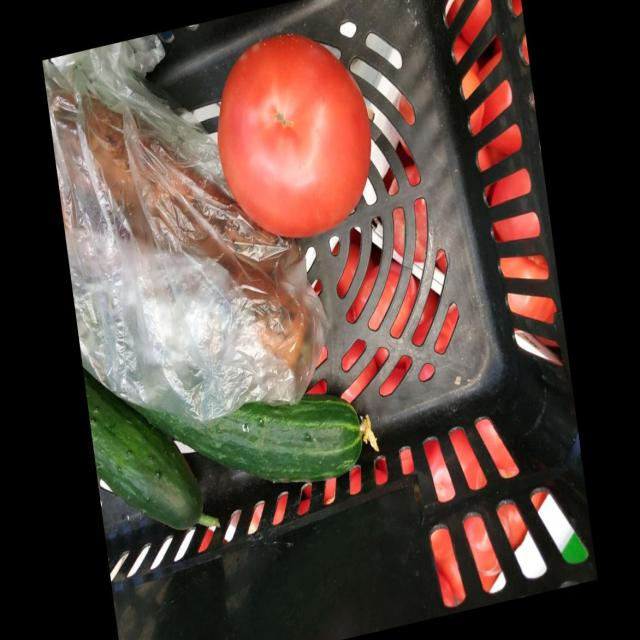carrot: (40, 69, 157, 272)
cucumber: (86, 220, 318, 640), (104, 261, 306, 640)
tomato: (111, 95, 373, 323)
